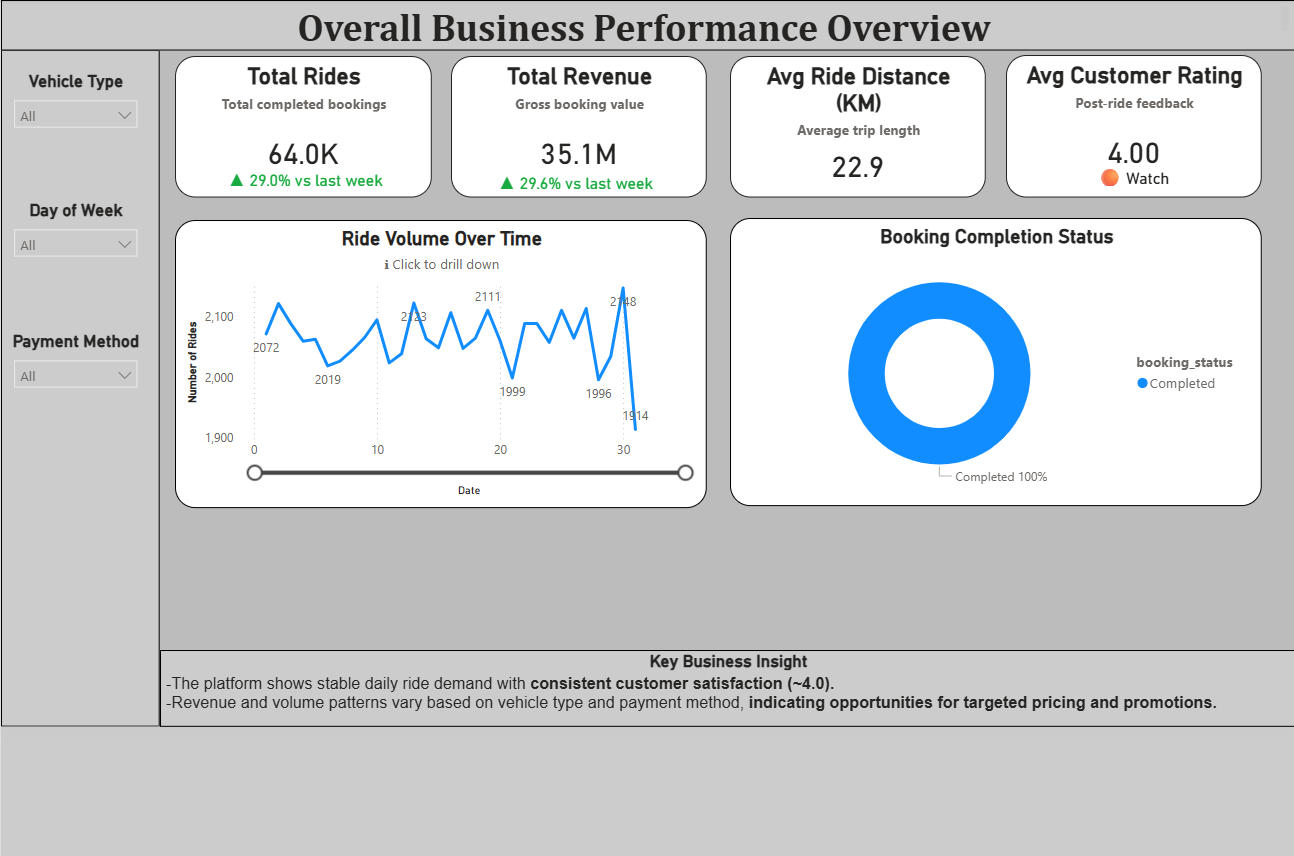

Layout of this report page (visuals, bound fields, positions):
{"tool":"powerbi","page":{"name":"Overall View","canvas":[1280,720],"ordinal":0},"visuals":[{"type":"card","title":"Total Rides","fields":{"Values":["CountNonNull(ola_rides_cleaned.booking_id)"]},"box":[171.6,56.1,253.6,139.7],"z":0,"group":"g1"},{"type":"card","title":"Total Revenue","fields":{"Values":["Sum(ola_rides_cleaned.booking_value)"]},"box":[445.1,56.1,252.7,139.7],"z":1000,"group":"g2"},{"type":"card","title":"Avg Ride Distance (KM)","fields":{"Values":["Avg(ola_rides_cleaned.ride_distance)"]},"box":[721.1,56.1,252.7,139.7],"z":2000},{"type":"card","title":"Avg Customer Rating","fields":{"Values":["Avg(ola_rides_cleaned.customer_rating)"]},"box":[994.5,55.2,252.7,140.6],"z":3000,"group":"g3"},{"type":"lineChart","title":"Ride Volume Over Time","fields":{"Y":["CountNonNull(ola_rides_cleaned.booking_id)"],"Category":["ola_rides_cleaned.booking_datetime.Variation.Date Hierarchy.Year","ola_rides_cleaned.booking_datetime.Variation.Date Hierarchy.Quarter","ola_rides_cleaned.booking_datetime.Variation.Date Hierarchy.Month","ola_rides_cleaned.booking_datetime.Variation.Date Hierarchy.Day"]},"box":[171.6,218.2,526.1,285.5],"z":4000},{"type":"donutChart","title":"Booking Completion Status","fields":{"Category":["ola_rides_cleaned.booking_status"],"Y":["CountNonNull(ola_rides_cleaned.booking_id)"]},"box":[721.1,216.5,526.1,285.5],"z":5000},{"type":"textbox","title":"Key Business Insight","box":[157,644.3,1123,75.9],"z":6000},{"type":"shape","box":[0,50.9,157,669.3],"z":7000},{"type":"textbox","box":[0,0.9,1280,50],"z":8000},{"type":"slicer","title":"Vehicle Type","fields":{"Values":["ola_rides_cleaned.vehicle_type"]},"box":[3.5,71.6,142.3,85.4],"z":9000},{"type":"slicer","title":"Day of Week","fields":{"Values":["ola_rides_cleaned.ride_day"]},"box":[3.5,198.4,142.3,84.5],"z":10000},{"type":"slicer","title":"Payment Method","fields":{"Values":["ola_rides_cleaned.payment_method"]},"box":[3.5,328.6,142.3,84.5],"z":11000},{"type":"card","fields":{"Values":["ola_rides_cleaned.Customer Rating Status Icon"]},"box":[1070.7,159.4,99.8,38.6],"z":13000,"group":"g3"},{"type":"card","fields":{"Values":["ola_rides_cleaned.Rides WoW Icon"]},"box":[200.8,166.3,198.2,24.9],"z":13002,"group":"g1"},{"type":"card","fields":{"Values":["ola_rides_cleaned.Revenue WoW Icon"]},"box":[418.7,168.9,299.6,27.6],"z":13003,"group":"g2"},{"type":"group","id":"g1","title":"Group 1","box":[171.6,56.1,253.6,139.7],"z":13004},{"type":"group","id":"g2","title":"Group 2","box":[418.7,56.1,299.6,140.4],"z":13005},{"type":"group","id":"g3","title":"Group 3","box":[994.5,55.2,252.7,142.8],"z":13006}]}

Visuals, with their boxes on the page's 1280x720 design canvas (x1, y1, x2, y2). These are canvas units, not pixel positions in the 1294x856 screenshot, which may show the page scaled, cropped or inside an application window:
"Total Rides" card: detection(172, 56, 425, 196)
"Total Revenue" card: detection(445, 56, 698, 196)
"Avg Ride Distance (KM)" card: detection(721, 56, 974, 196)
"Avg Customer Rating" card: detection(994, 55, 1247, 196)
"Ride Volume Over Time" lineChart: detection(172, 218, 698, 504)
"Booking Completion Status" donutChart: detection(721, 216, 1247, 502)
"Key Business Insight" textbox: detection(157, 644, 1280, 720)
shape: detection(0, 51, 157, 720)
textbox: detection(0, 1, 1280, 51)
"Vehicle Type" slicer: detection(4, 72, 146, 157)
"Day of Week" slicer: detection(4, 198, 146, 283)
"Payment Method" slicer: detection(4, 329, 146, 413)
card - ola_rides_cleaned.Customer Rating Status Icon: detection(1071, 159, 1170, 198)
card - ola_rides_cleaned.Rides WoW Icon: detection(201, 166, 399, 191)
card - ola_rides_cleaned.Revenue WoW Icon: detection(419, 169, 718, 196)
"Group 1" group: detection(172, 56, 425, 196)
"Group 2" group: detection(419, 56, 718, 196)
"Group 3" group: detection(994, 55, 1247, 198)
